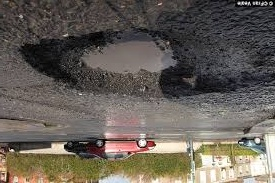pothole: (10, 12, 247, 107), (0, 111, 66, 132)
